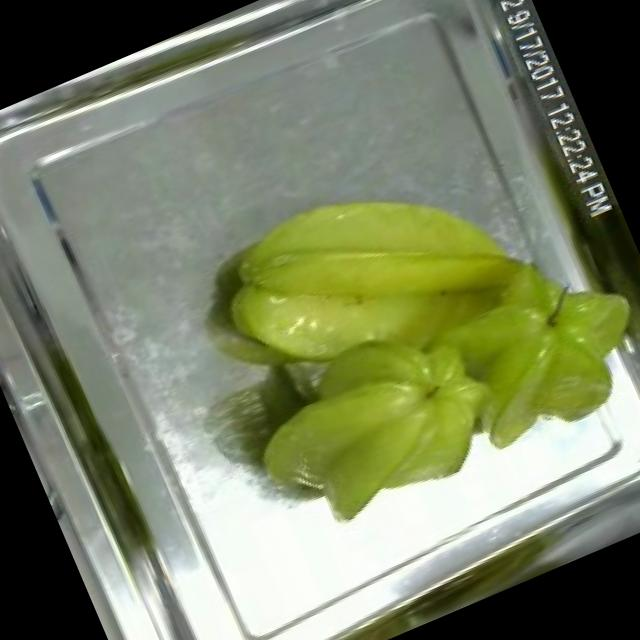fruit: (163, 107, 627, 561)
